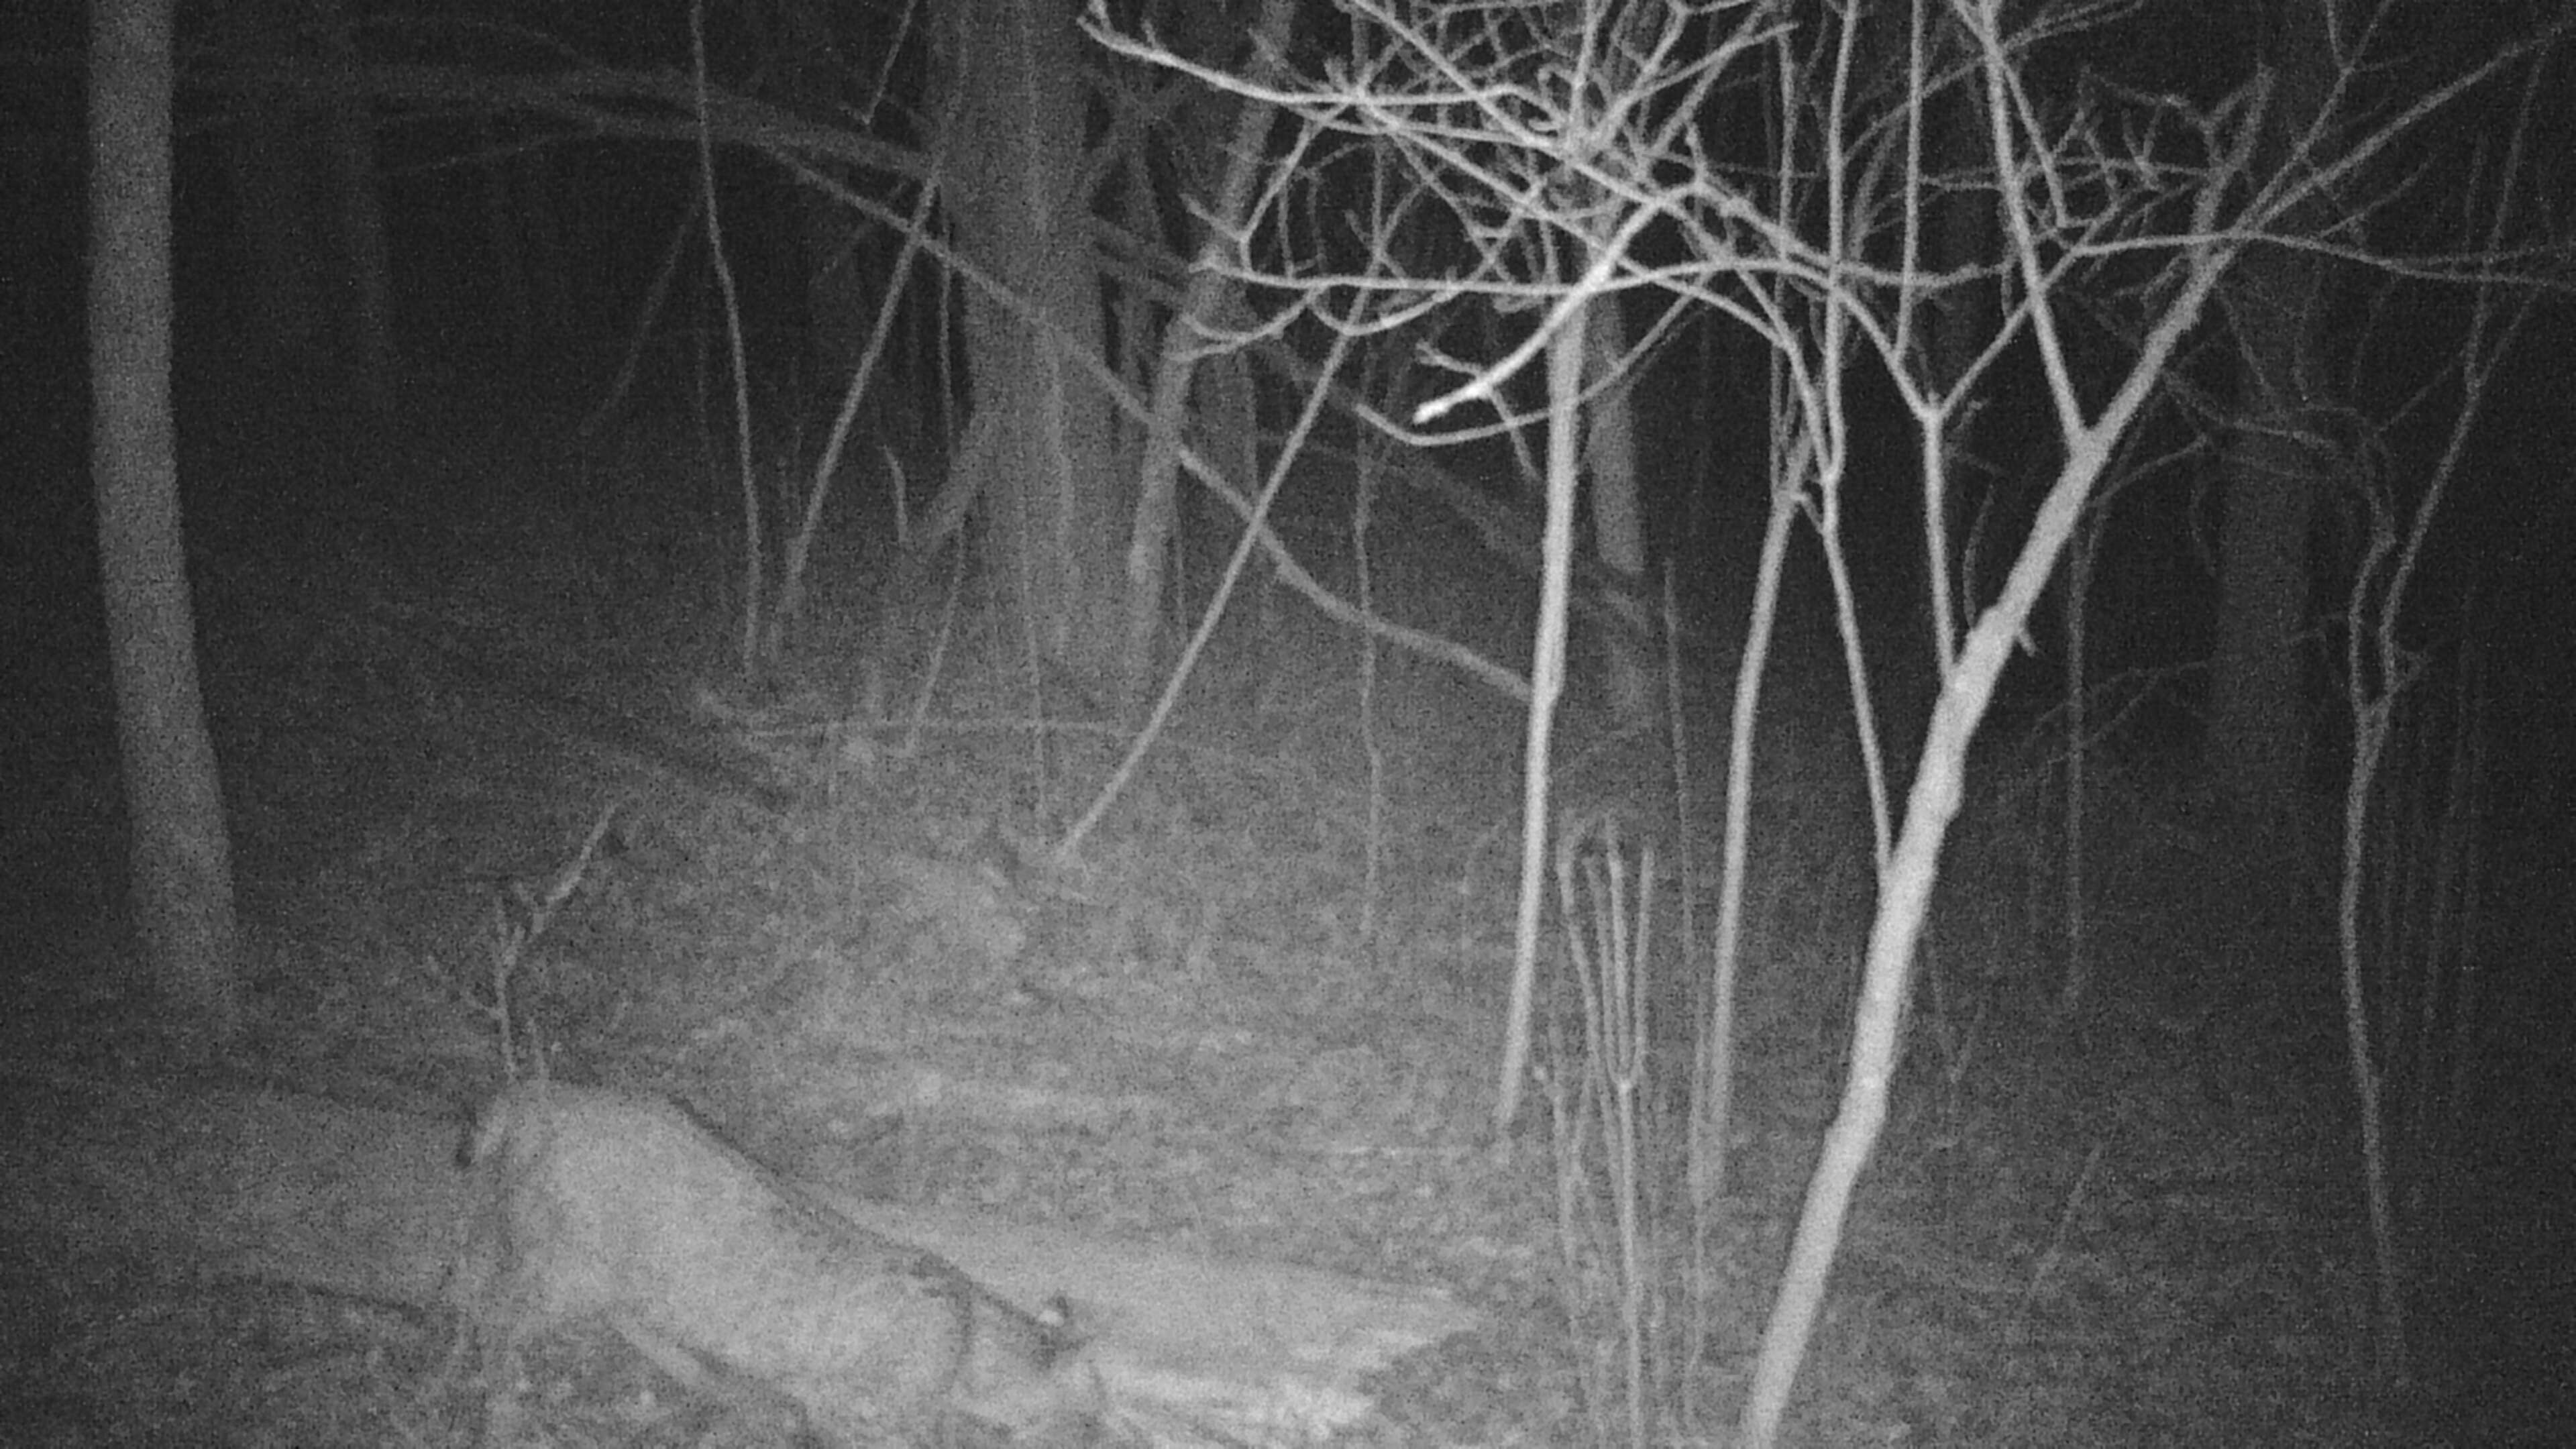Bobcat: (451, 1063, 1113, 1449)
